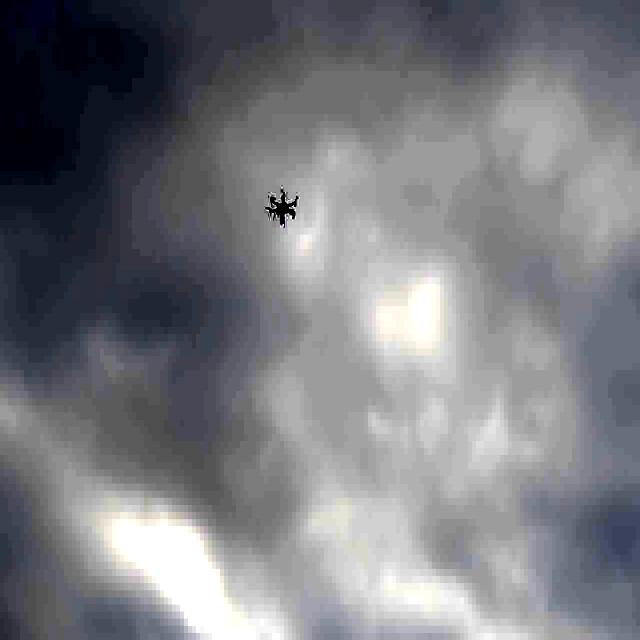drone: (263, 188, 303, 226)
